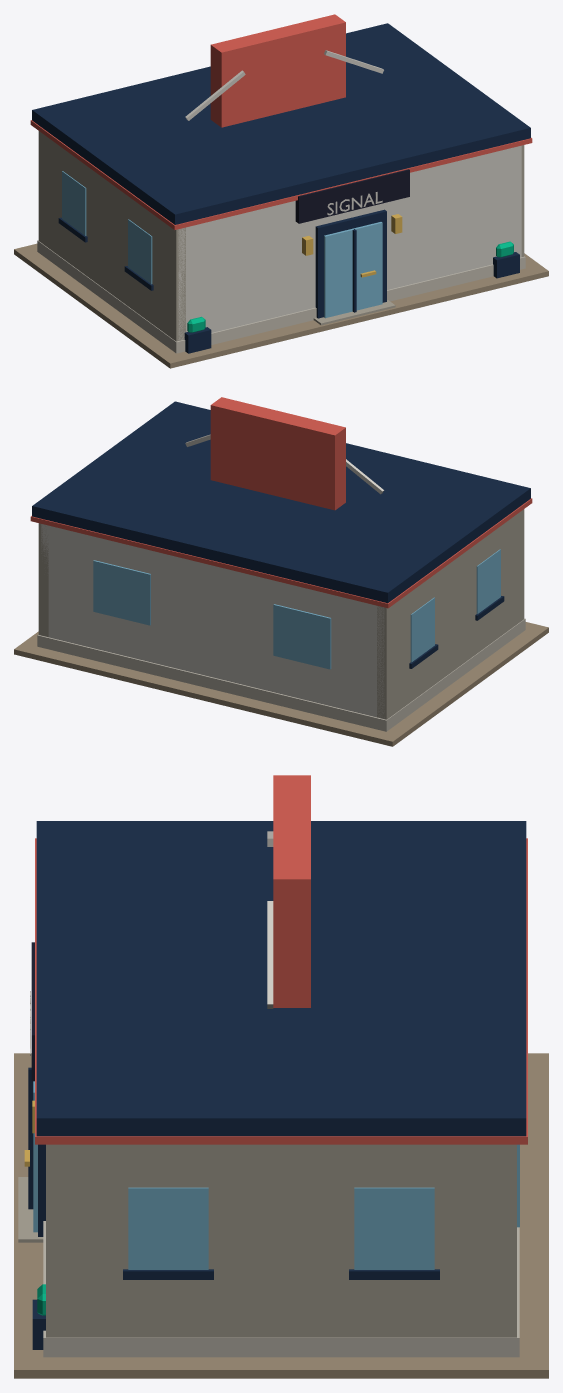
The model's file is signal-office-DE-G8iBu.glb.
The picture shows the model from 3 angles, top to bottom: view 1: azimuth 30°, elevation 25°; view 2: azimuth 150°, elevation 25°; view 3: azimuth 270°, elevation 25°; orthographic projection. The views are drawn at different scales.
Parts seen in each view (by area): view 1: Architecture; view 2: Architecture; view 3: Architecture.
Boxes of the visible parts, <box> form: Architecture: <box>14,14,548,368</box>; Architecture: <box>14,397,548,746</box>; Architecture: <box>14,775,548,1378</box>.
Bounding box in the file's own units: 14 × 8.11 × 10.
